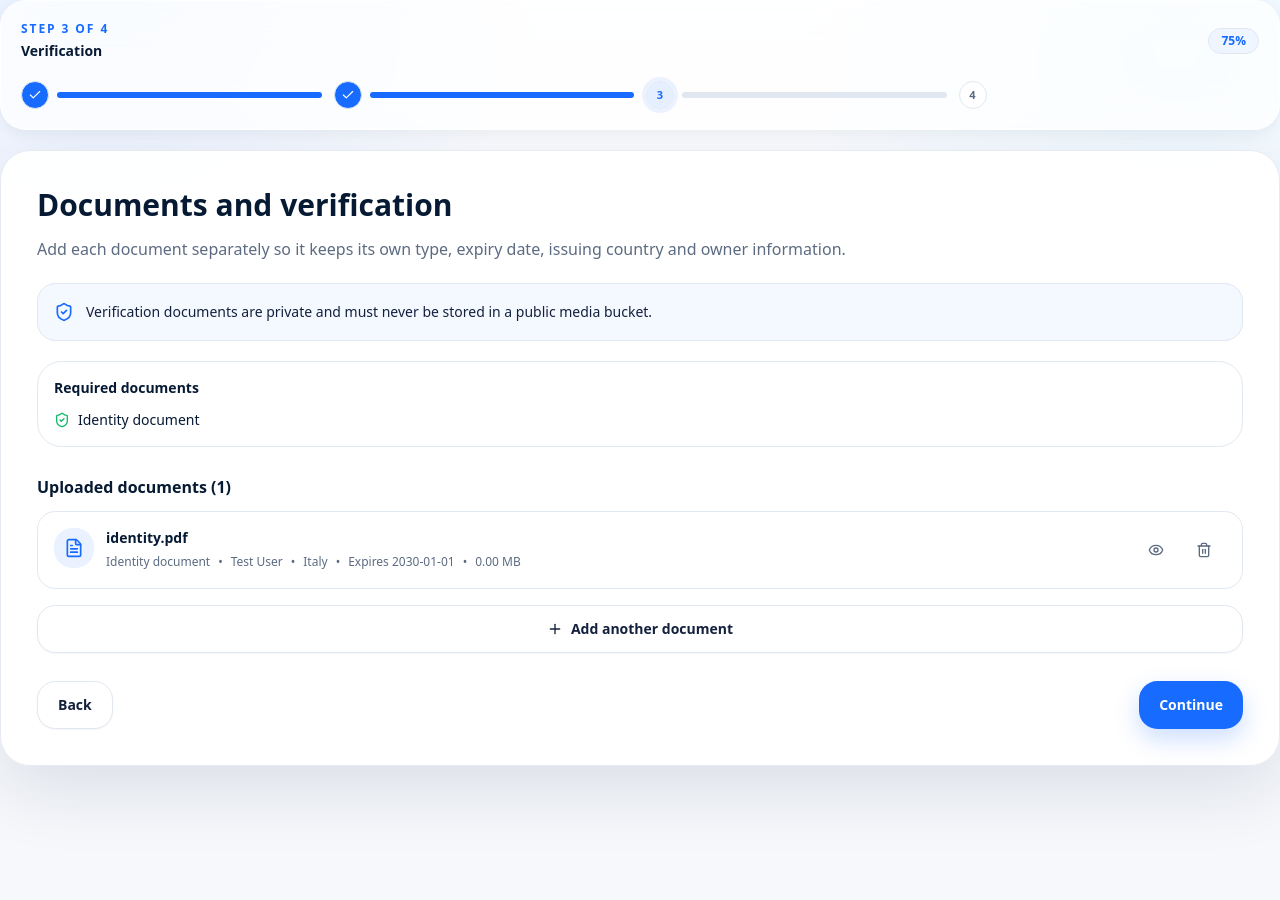
Test: DocumentsForm › reopens the document editor after the final document is deleted
The width and height of the screenshot is (1280, 900).
What coordinates should you click on to do the following:
click the button named "Remove identity.pdf"
I would click on:
 (1204, 550)
Its box is [1182, 528, 1226, 572].
(page scrolled)
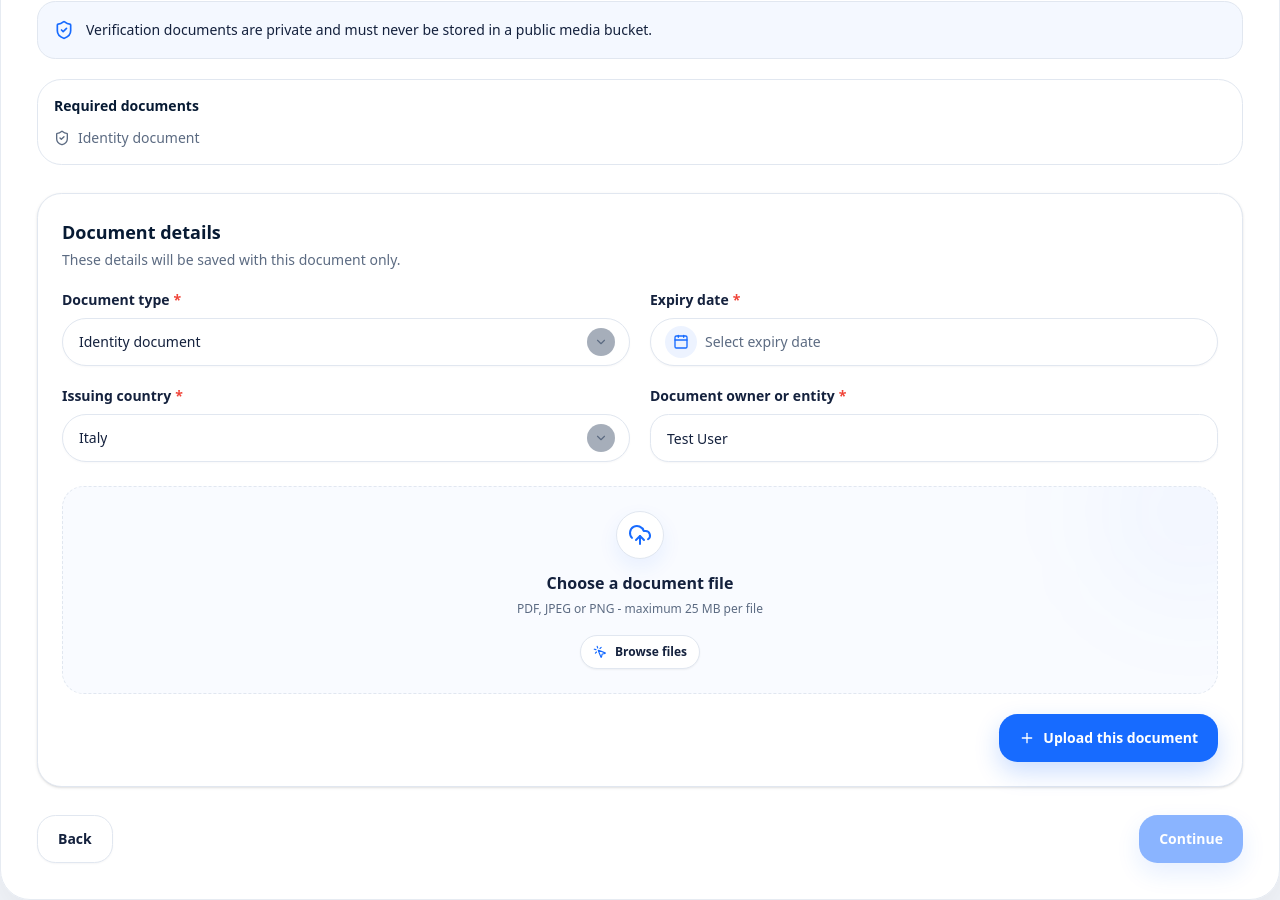
Result: the heading "Document details" is shown at [62, 220, 221, 244]
Result: the button "Continue" is disabled at [1139, 815, 1243, 863]
